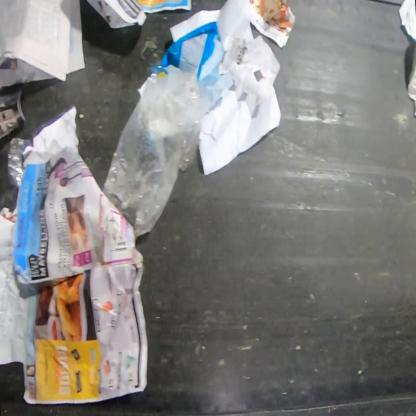soft_plastic: (102, 73, 202, 240), (146, 22, 234, 120), (1, 138, 33, 211)
